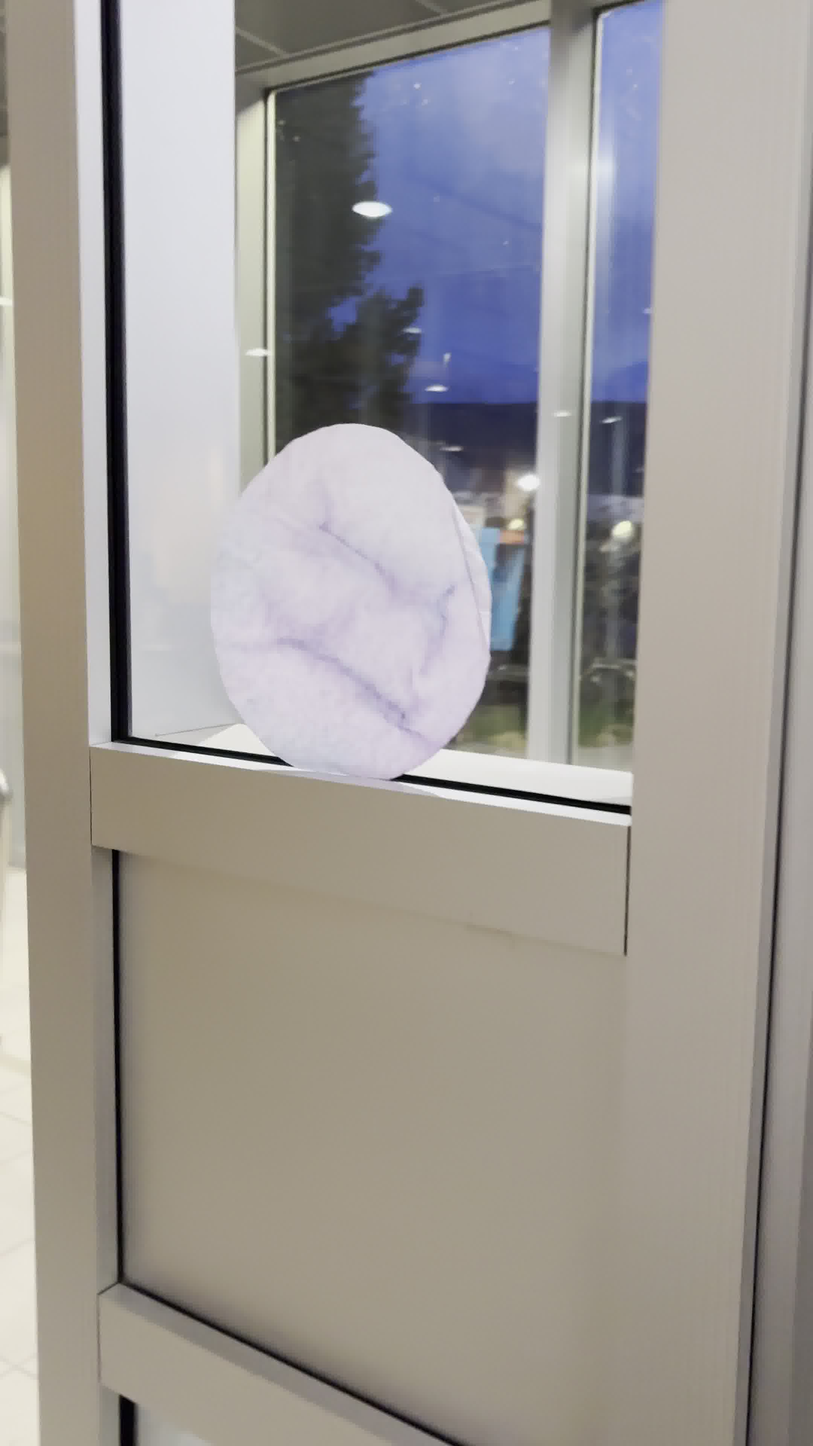Target: (211, 417, 495, 790)
